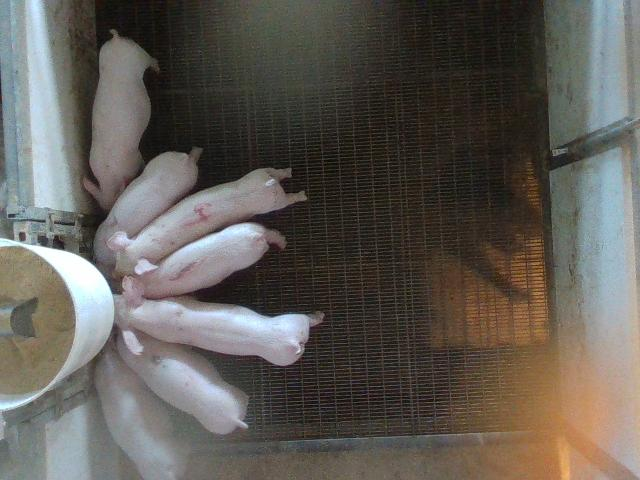pig-1: (138, 222, 286, 298)
pig-4: (110, 168, 306, 277)
